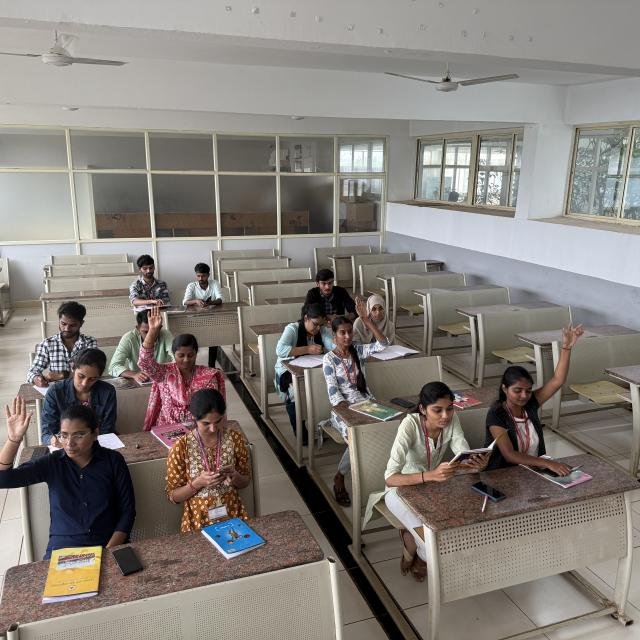Hand Rising: (0, 394, 124, 548), (485, 314, 592, 458), (137, 302, 208, 412), (318, 291, 387, 395)
Reading: (380, 379, 503, 480), (129, 252, 173, 308)
Using Phone: (164, 387, 251, 510), (186, 263, 222, 307)
Writing: (38, 346, 122, 450), (27, 299, 96, 385), (352, 292, 414, 358), (272, 304, 336, 362)
